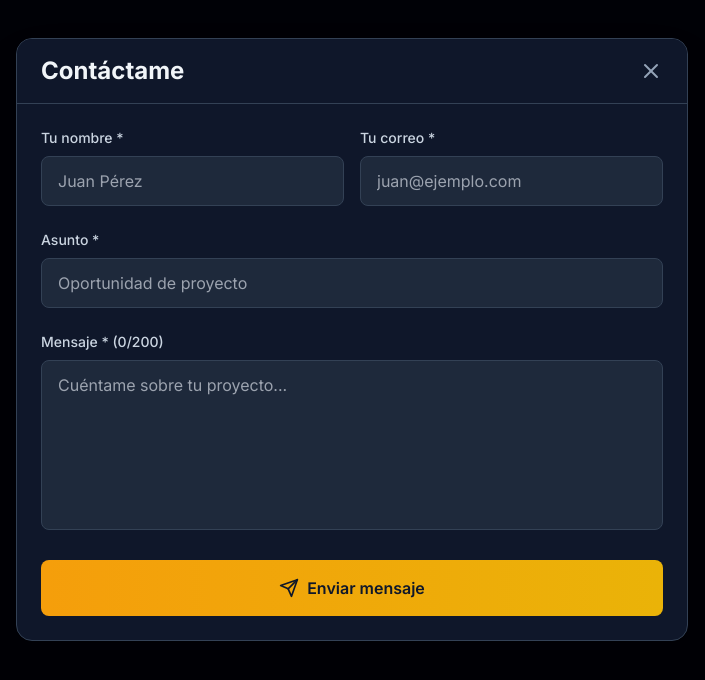
Scenario: ContactModal › rechaza números y muestra el error en el idioma activo
The image size is (705, 680).
Type "Alex123" into the field labelled "Tu nombre *" at [192, 180], box [41,156,344,206]
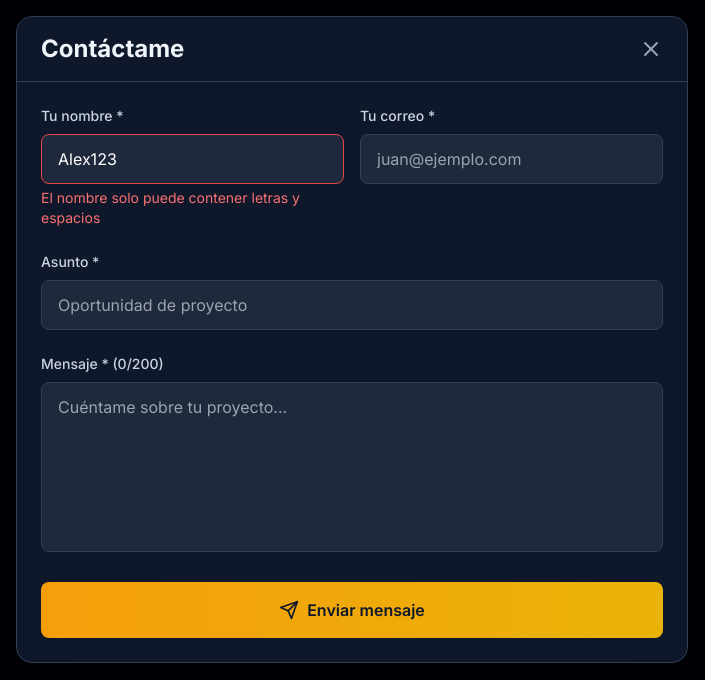
Check: the text "El nombre solo puede contener letras y espacios" is shown, box [41,188,344,228]
